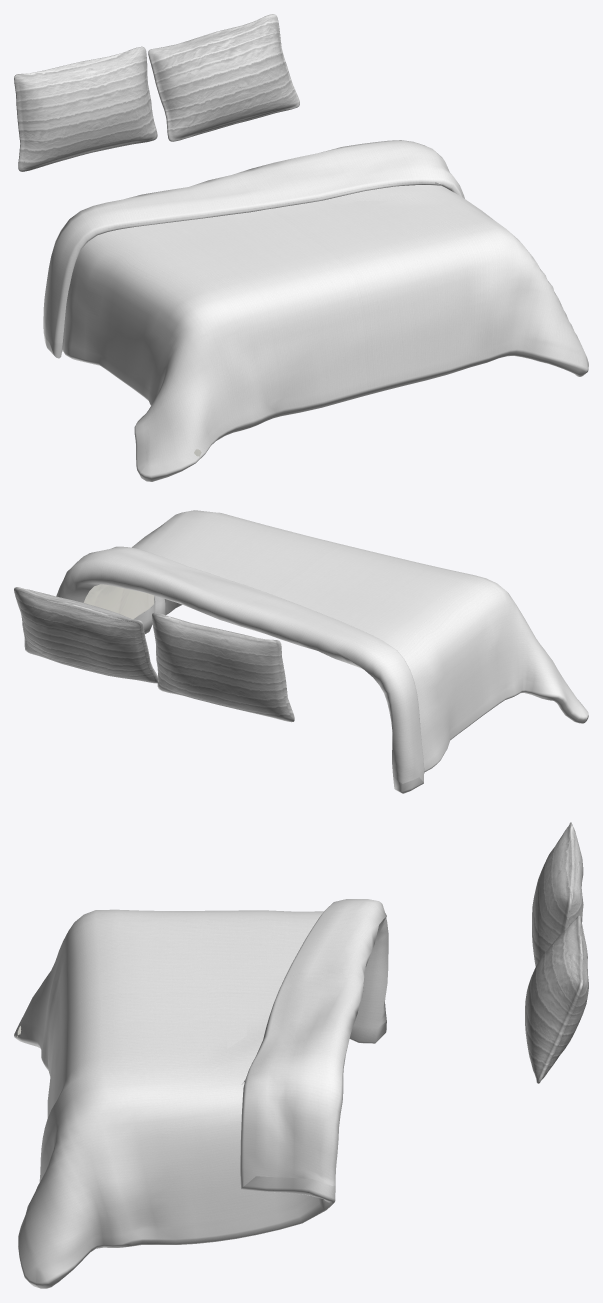
File: duvet.gltf
3 renders of one model, top to bottom at view 1: azimuth 30°, elevation 25°; view 2: azimuth 150°, elevation 25°; view 3: azimuth 270°, elevation 25°, orthographic. The views are drawn at different scales.
Visible parts, largest first — view 1: duvet, duvet-pillowcase01, duvet-pillowcase02; view 2: duvet, duvet-pillowcase01, duvet-pillowcase02, comforter-mulberry; view 3: duvet, duvet-pillowcase02, duvet-pillowcase01.
Part boxes in pixels (bbox=[...]): duvet: bbox=[43, 140, 588, 481]; duvet-pillowcase01: bbox=[14, 46, 157, 171]; duvet-pillowcase02: bbox=[148, 14, 299, 141]; duvet: bbox=[56, 510, 588, 793]; duvet-pillowcase01: bbox=[152, 612, 294, 722]; duvet-pillowcase02: bbox=[14, 587, 157, 683]; comforter-mulberry: bbox=[83, 584, 154, 619]; duvet: bbox=[14, 899, 388, 1288]; duvet-pillowcase02: bbox=[525, 915, 588, 1083]; duvet-pillowcase01: bbox=[532, 822, 583, 966].
Size of the model in its own units: 1.62 by 0.7698 by 1.5.
3 materials, 3 textured.
